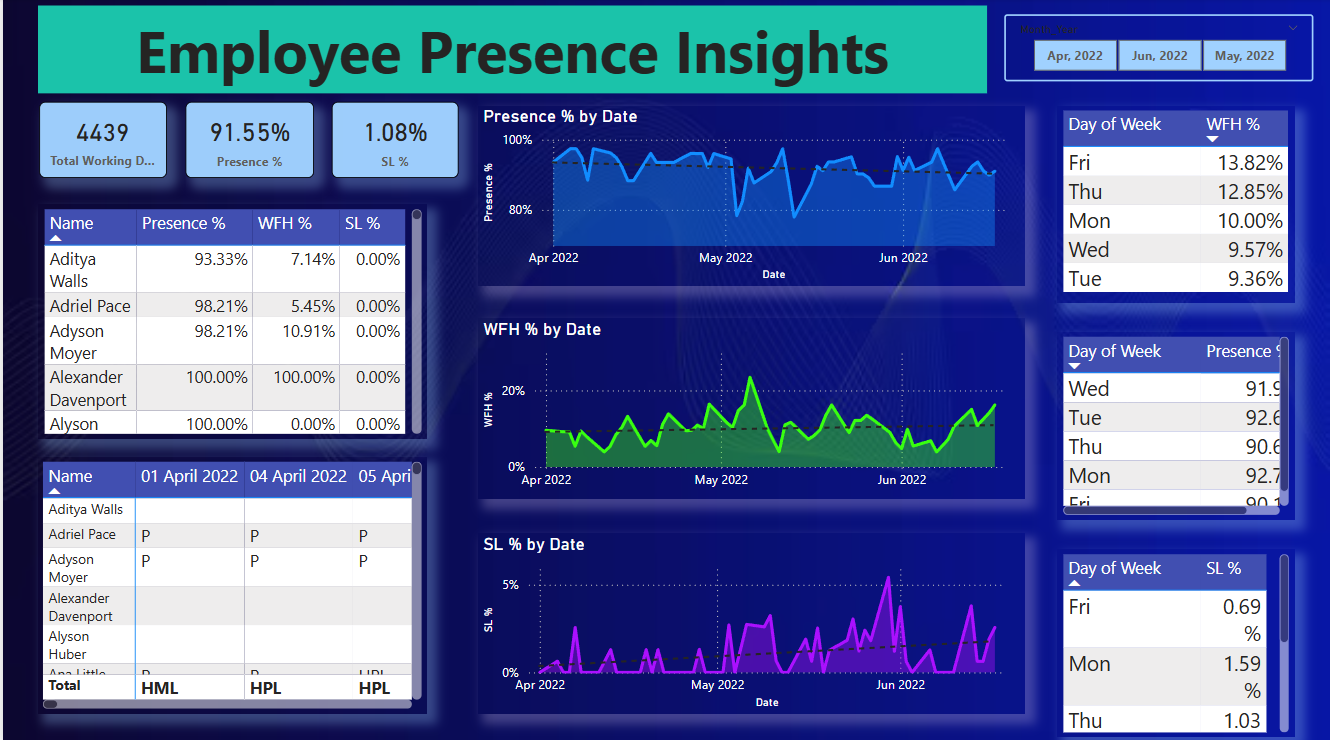

The dashboard page shown, as its layout file describes it:
{"tool":"powerbi","page":{"name":"Page 1","canvas":[1280,720],"ordinal":0},"visuals":[{"type":"card","fields":{"Values":["Measure.Total_Working_Days"]},"box":[34.5,100.1,123.5,73.4],"z":0},{"type":"slicer","fields":{"Values":["Final_Data.Month_Year"]},"box":[966.7,15.9,298.7,64.9],"z":1000},{"type":"textbox","box":[33.2,7.2,916.2,85.1],"z":2000},{"type":"card","fields":{"Values":["Final_Data.Presence %"]},"box":[175.6,99.6,124.1,73.6],"z":3000},{"type":"card","fields":{"Values":["Final_Data.SL %"]},"box":[317.4,99.6,122.6,73.6],"z":4000},{"type":"tableEx","fields":{"Values":["Final_Data.Name","Final_Data.Presence %","Final_Data.WFH %","Final_Data.SL %"]},"box":[33.2,199.1,375.1,226.5],"z":5000},{"type":"pivotTable","fields":{"Rows":["Final_Data.Name"],"Values":["Final_Data.Value"],"Columns":["Final_Data.Date"]},"box":[33.2,442.9,375.1,248.2],"z":6000},{"type":"areaChart","fields":{"Y":["Final_Data.Presence %"],"Category":["Final_Data.Date"]},"box":[458.8,103.9,528.1,174.6],"z":7000},{"type":"areaChart","fields":{"Category":["Final_Data.Date"],"Y":["Final_Data.WFH %"]},"box":[458.8,308.3,528.1,174],"z":8000},{"type":"areaChart","fields":{"Category":["Final_Data.Date"],"Y":["Final_Data.SL %"]},"box":[458.8,516.5,528.1,174.6],"z":9000},{"type":"tableEx","fields":{"Values":["Final_Data.Day of Week","Final_Data.Presence %"]},"box":[1017.1,322.5,229.4,181.8],"z":10000},{"type":"tableEx","fields":{"Values":["Final_Data.Day of Week","Final_Data.WFH %"]},"box":[1017.1,103.9,229.4,190.4],"z":11000},{"type":"tableEx","fields":{"Values":["Final_Data.Day of Week","Final_Data.SL %"]},"box":[1017.1,532.4,229.4,181.8],"z":12000}]}

Visuals, with their boxes in screenshot pixels (x1, y1, x2, y2), scaled from the page's 1280x720 canvas onto the 1330x740 screenshot:
card - Measure.Total_Working_Days: x1=36, y1=103, x2=164, y2=178
slicer - Final_Data.Month_Year: x1=1004, y1=16, x2=1315, y2=83
textbox: x1=34, y1=7, x2=986, y2=95
card - Final_Data.Presence %: x1=182, y1=102, x2=311, y2=178
card - Final_Data.SL %: x1=330, y1=102, x2=457, y2=178
tableEx - Final_Data.Name x Final_Data.Presence %: x1=34, y1=205, x2=424, y2=437
pivotTable - Final_Data.Name x Final_Data.Value: x1=34, y1=455, x2=424, y2=710
areaChart - Final_Data.Presence % x Final_Data.Date: x1=477, y1=107, x2=1025, y2=286
areaChart - Final_Data.Date x Final_Data.WFH %: x1=477, y1=317, x2=1025, y2=496
areaChart - Final_Data.Date x Final_Data.SL %: x1=477, y1=531, x2=1025, y2=710
tableEx - Final_Data.Day of Week x Final_Data.Presence %: x1=1057, y1=331, x2=1295, y2=518
tableEx - Final_Data.Day of Week x Final_Data.WFH %: x1=1057, y1=107, x2=1295, y2=302
tableEx - Final_Data.Day of Week x Final_Data.SL %: x1=1057, y1=547, x2=1295, y2=734
